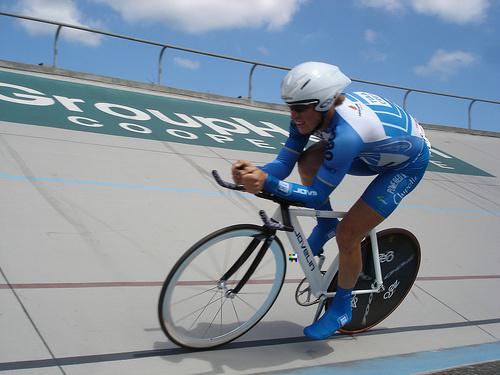car: (163, 167, 424, 350)
person: (235, 64, 433, 338)
